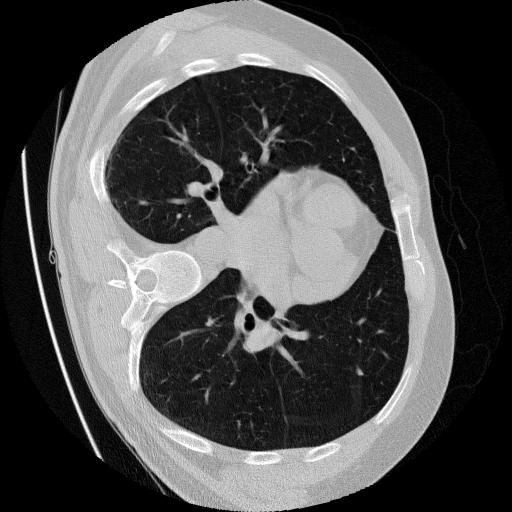nodule: (355, 368, 369, 382)
